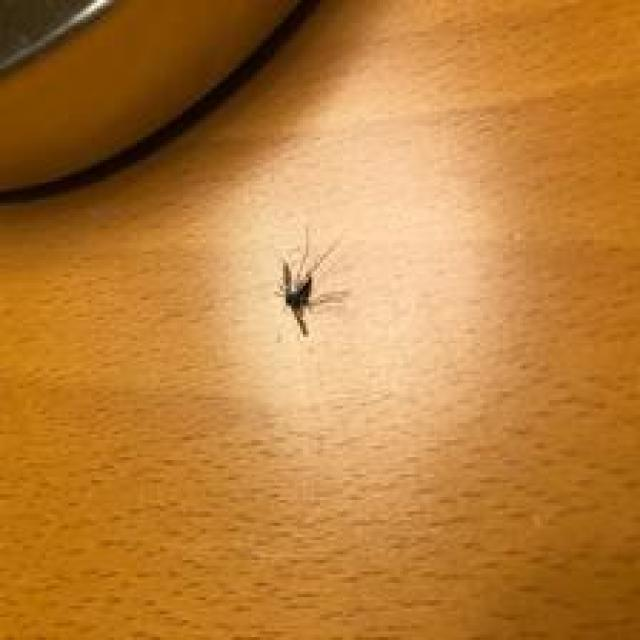Aedes albopictus: (273, 226, 347, 337)
